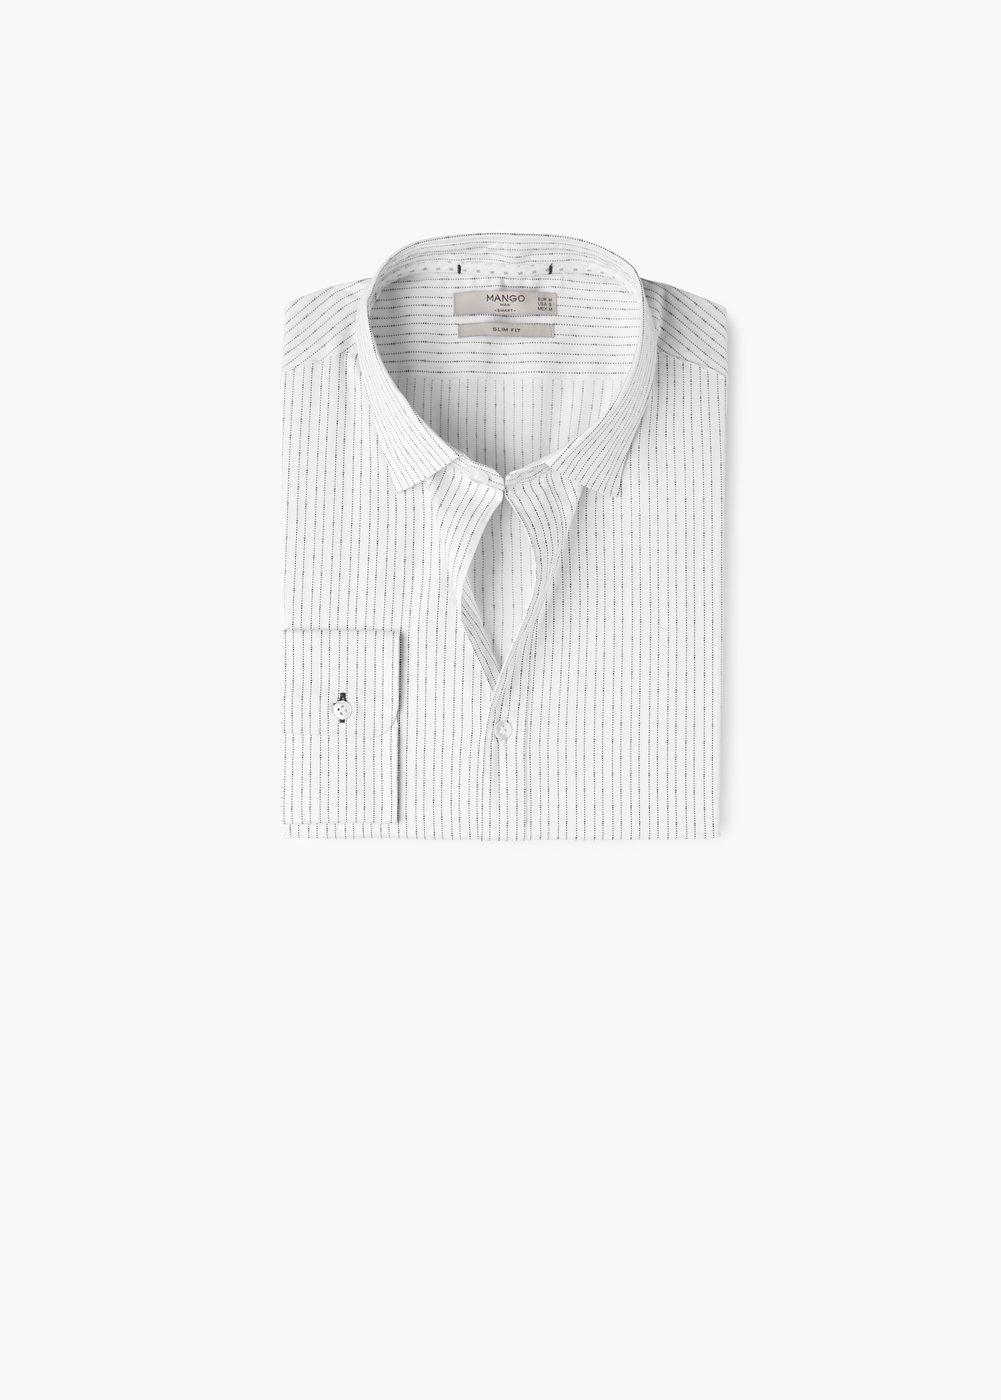teeshirt: (244, 195, 763, 889)
